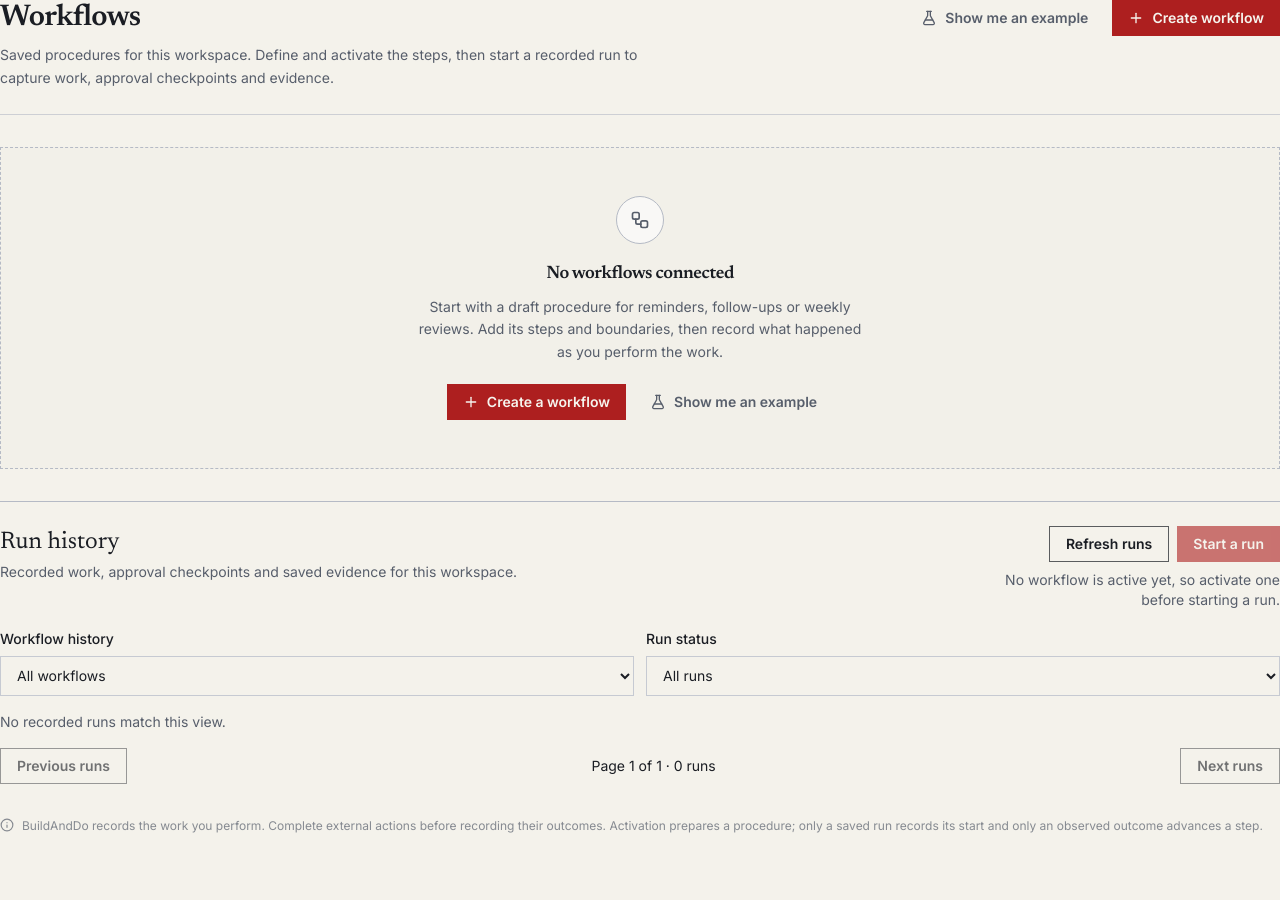
Test case: WorkflowsPage › refuses to create a workflow without a name
Click the button "Create workflow" at (1196, 18), box x1=1112 y1=0 x2=1279 y2=36
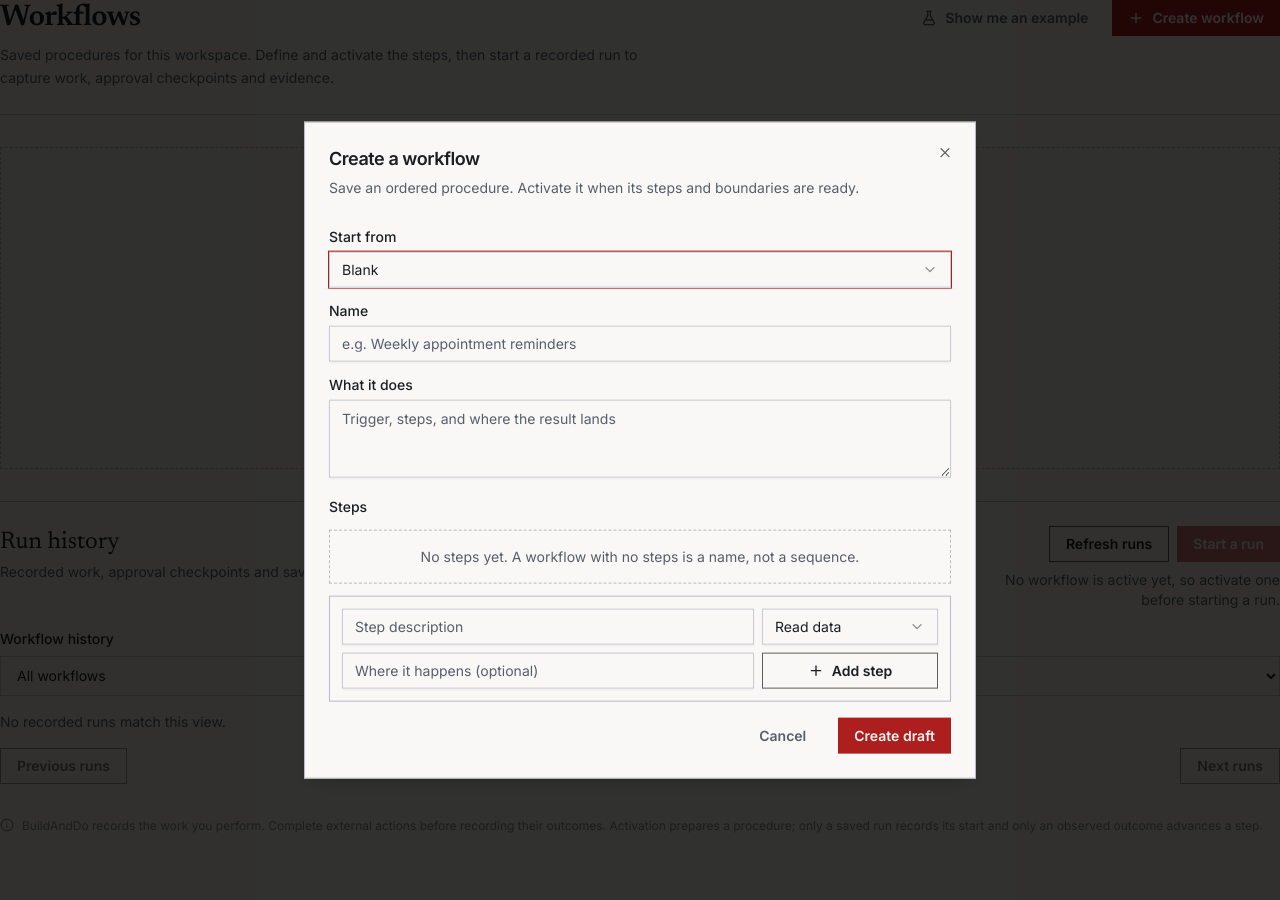
Click the button "Create draft" at (895, 735), box x1=838 y1=717 x2=951 y2=753
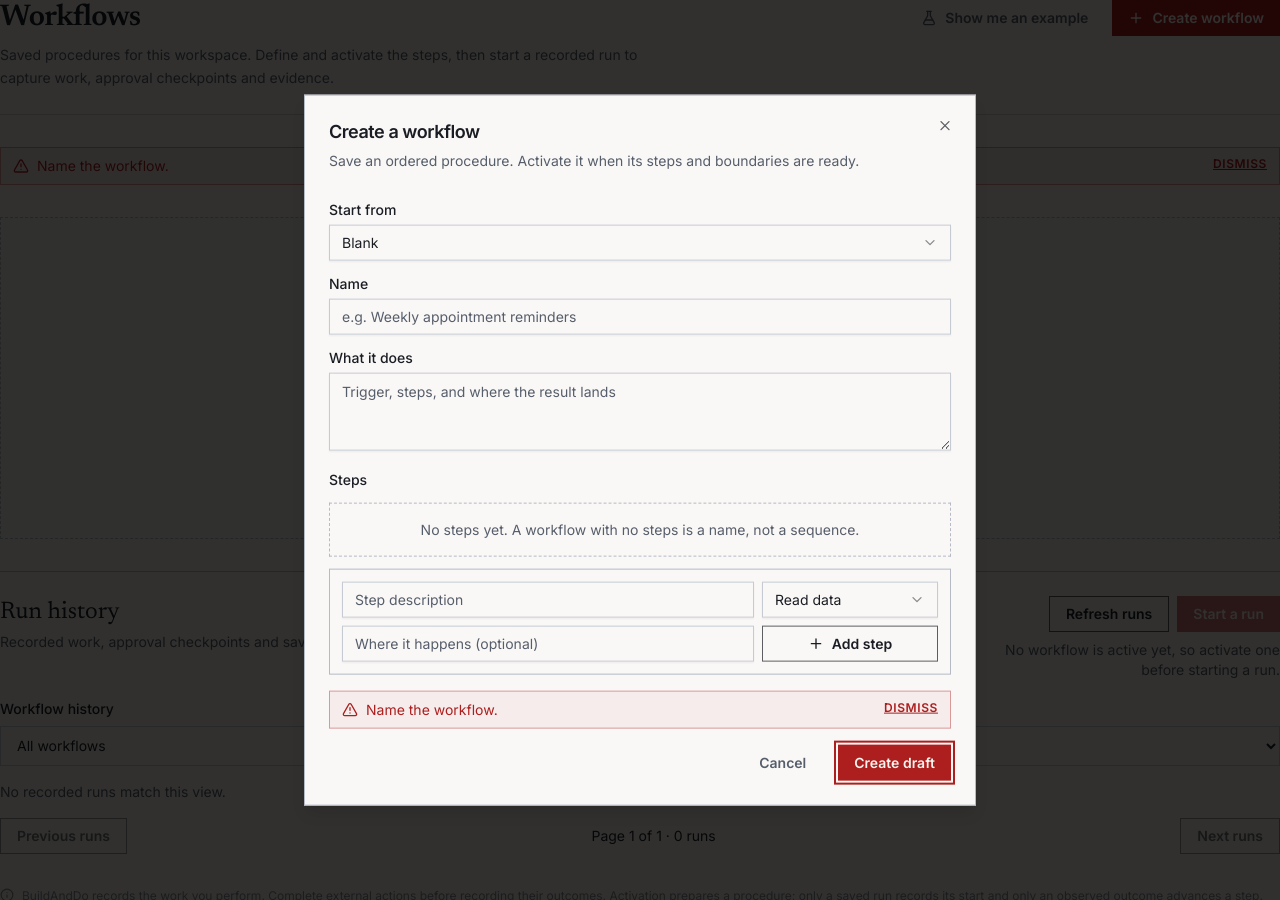
Expected: the message shows "Name the workflow.", x1=366 y1=700 x2=498 y2=717
